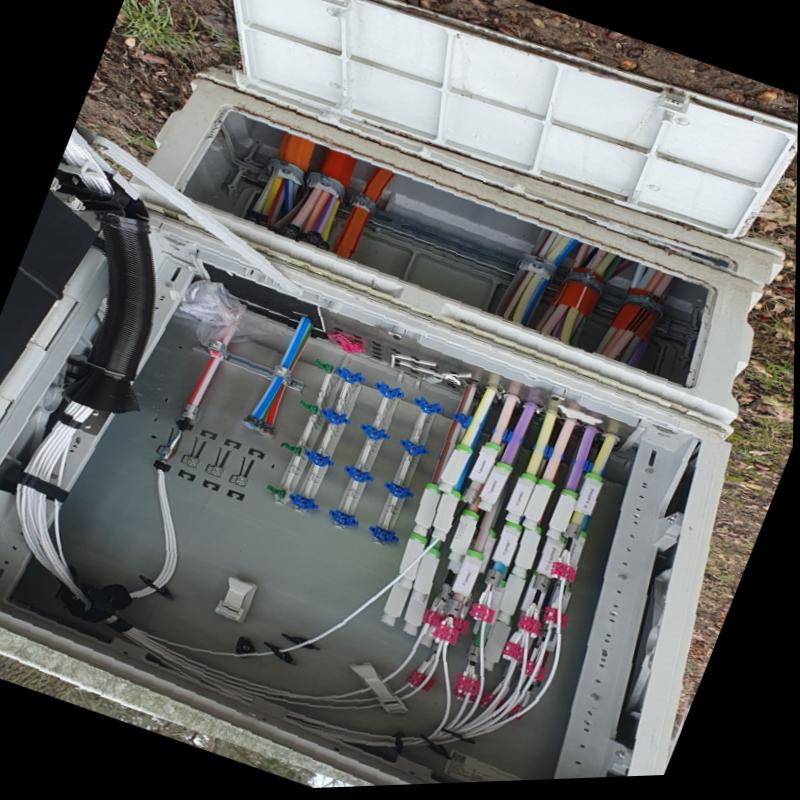NT-Gehause: (0, 68, 774, 789)
